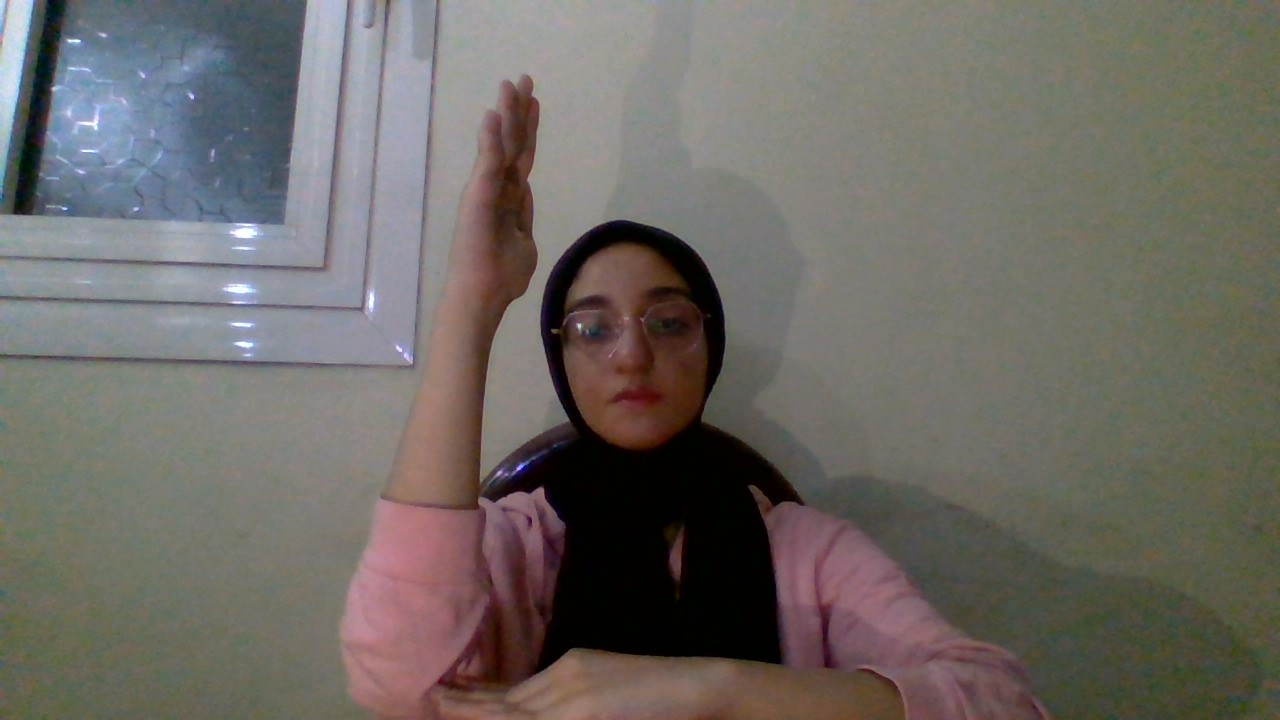morning: (229, 62, 1068, 719)
